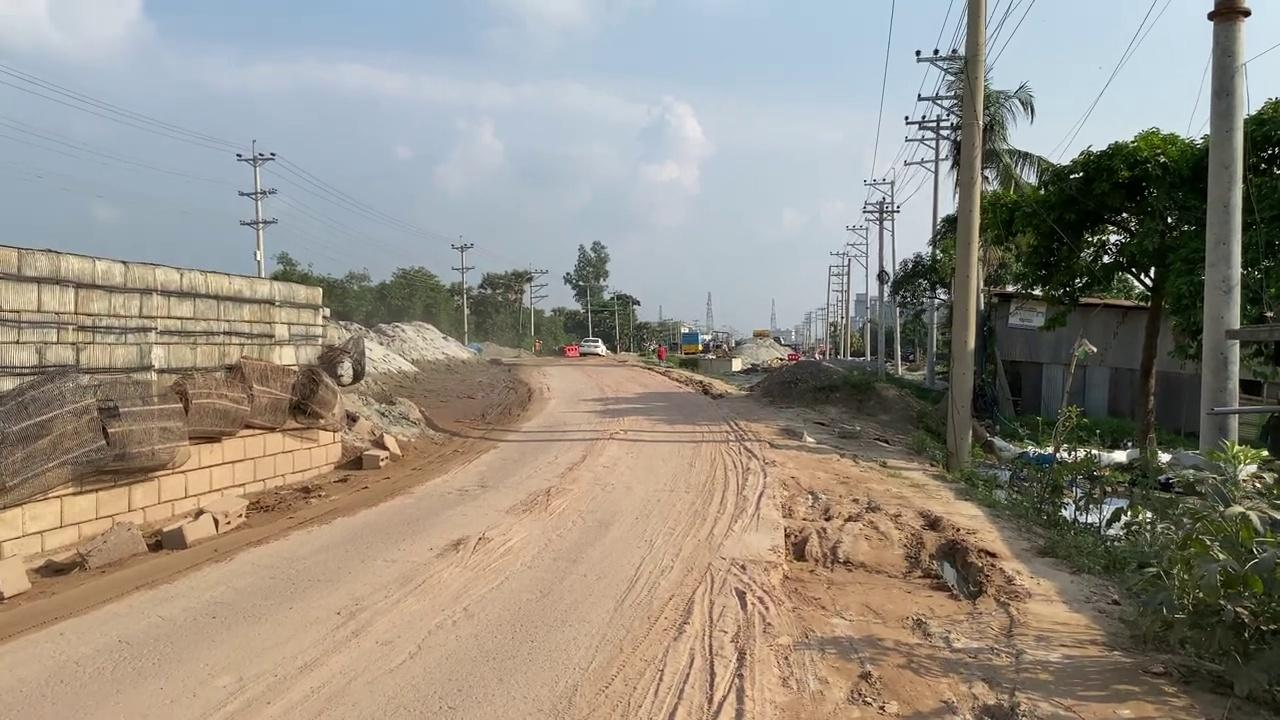Car: (578, 337, 606, 356)
Garbage: (0, 332, 366, 509)
Muddy road: (1, 349, 1253, 718)
Obstacle: (159, 493, 248, 550)
Pole: (1197, 0, 1251, 461), (945, 0, 987, 475)
Rickshaw: (651, 360, 1251, 718)
Traffic-sign: (953, 95, 1279, 482), (562, 239, 610, 338)
Tree: (678, 326, 732, 357), (678, 326, 702, 355), (706, 331, 731, 357), (752, 328, 770, 339)
